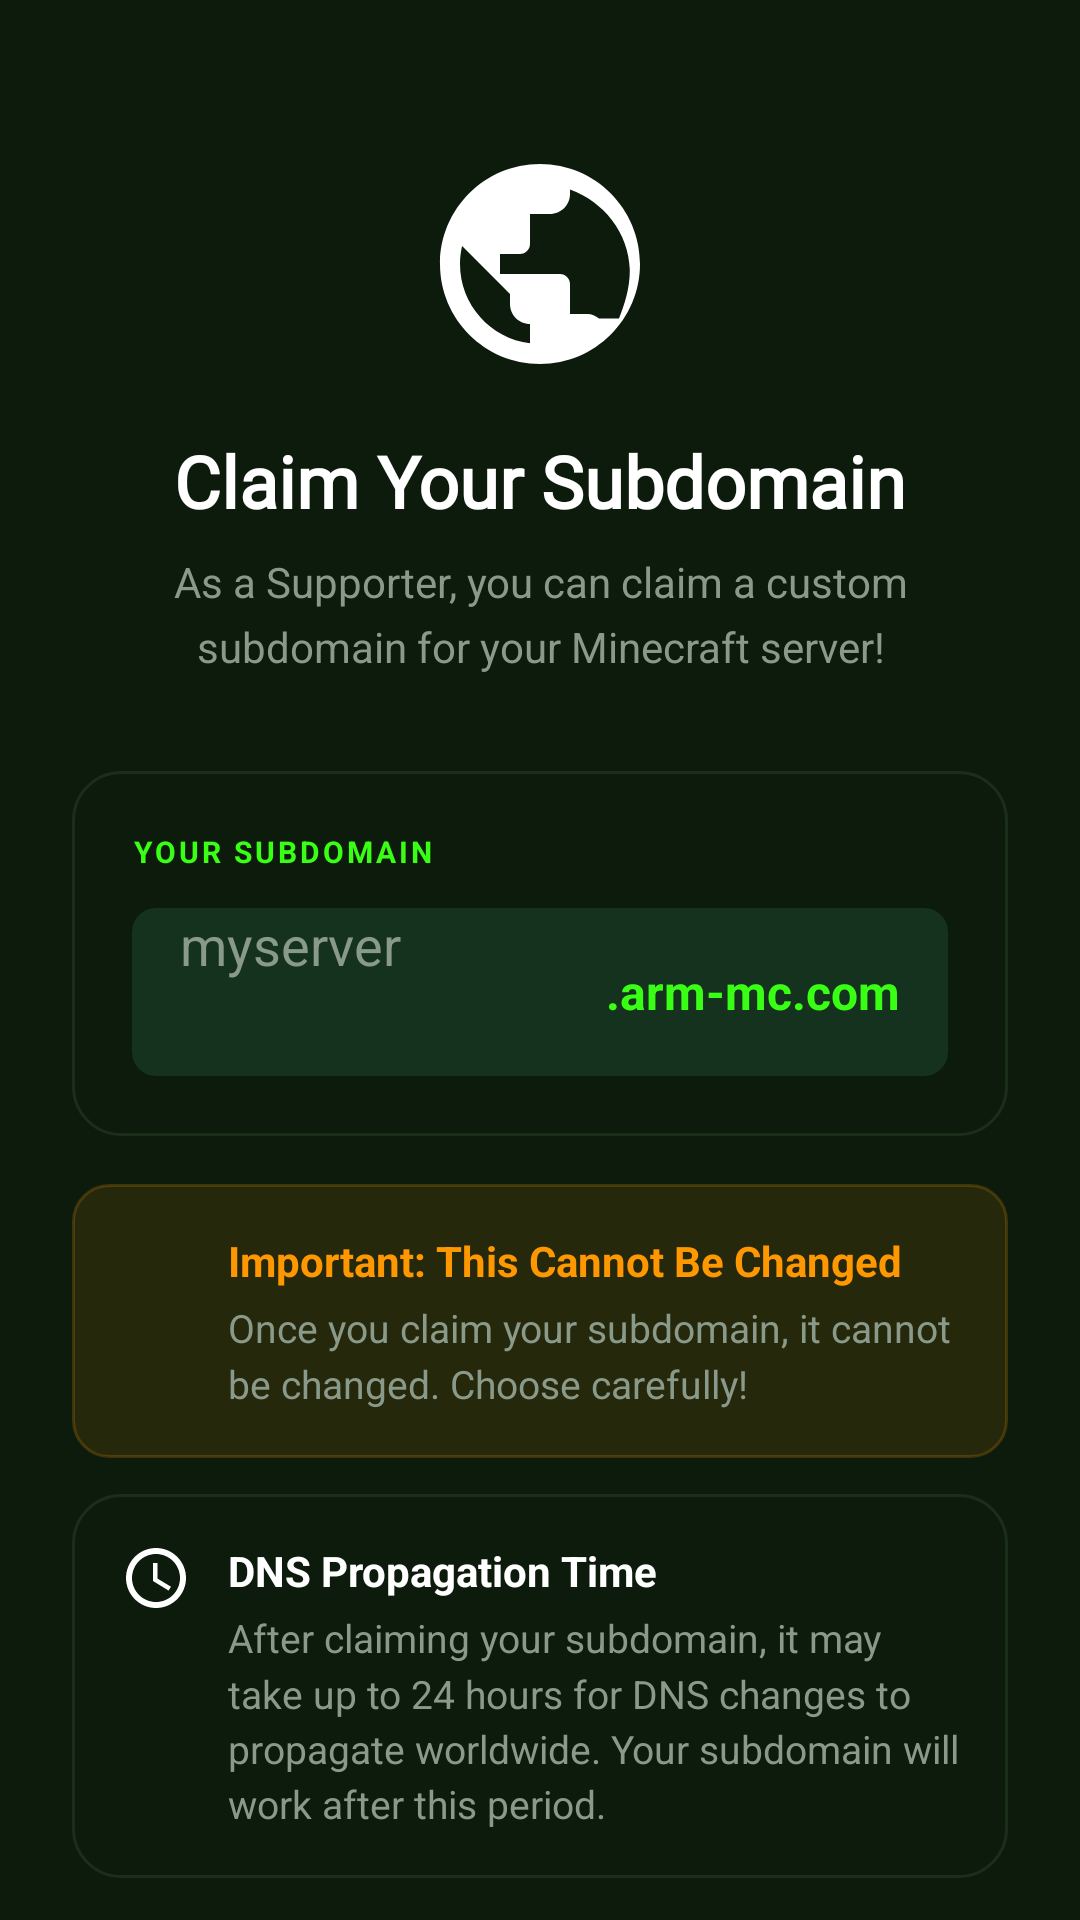

Where to tap for icons on this 1080px x 1920px app screen, as (x,y):
Custom Domain: (540,264)
